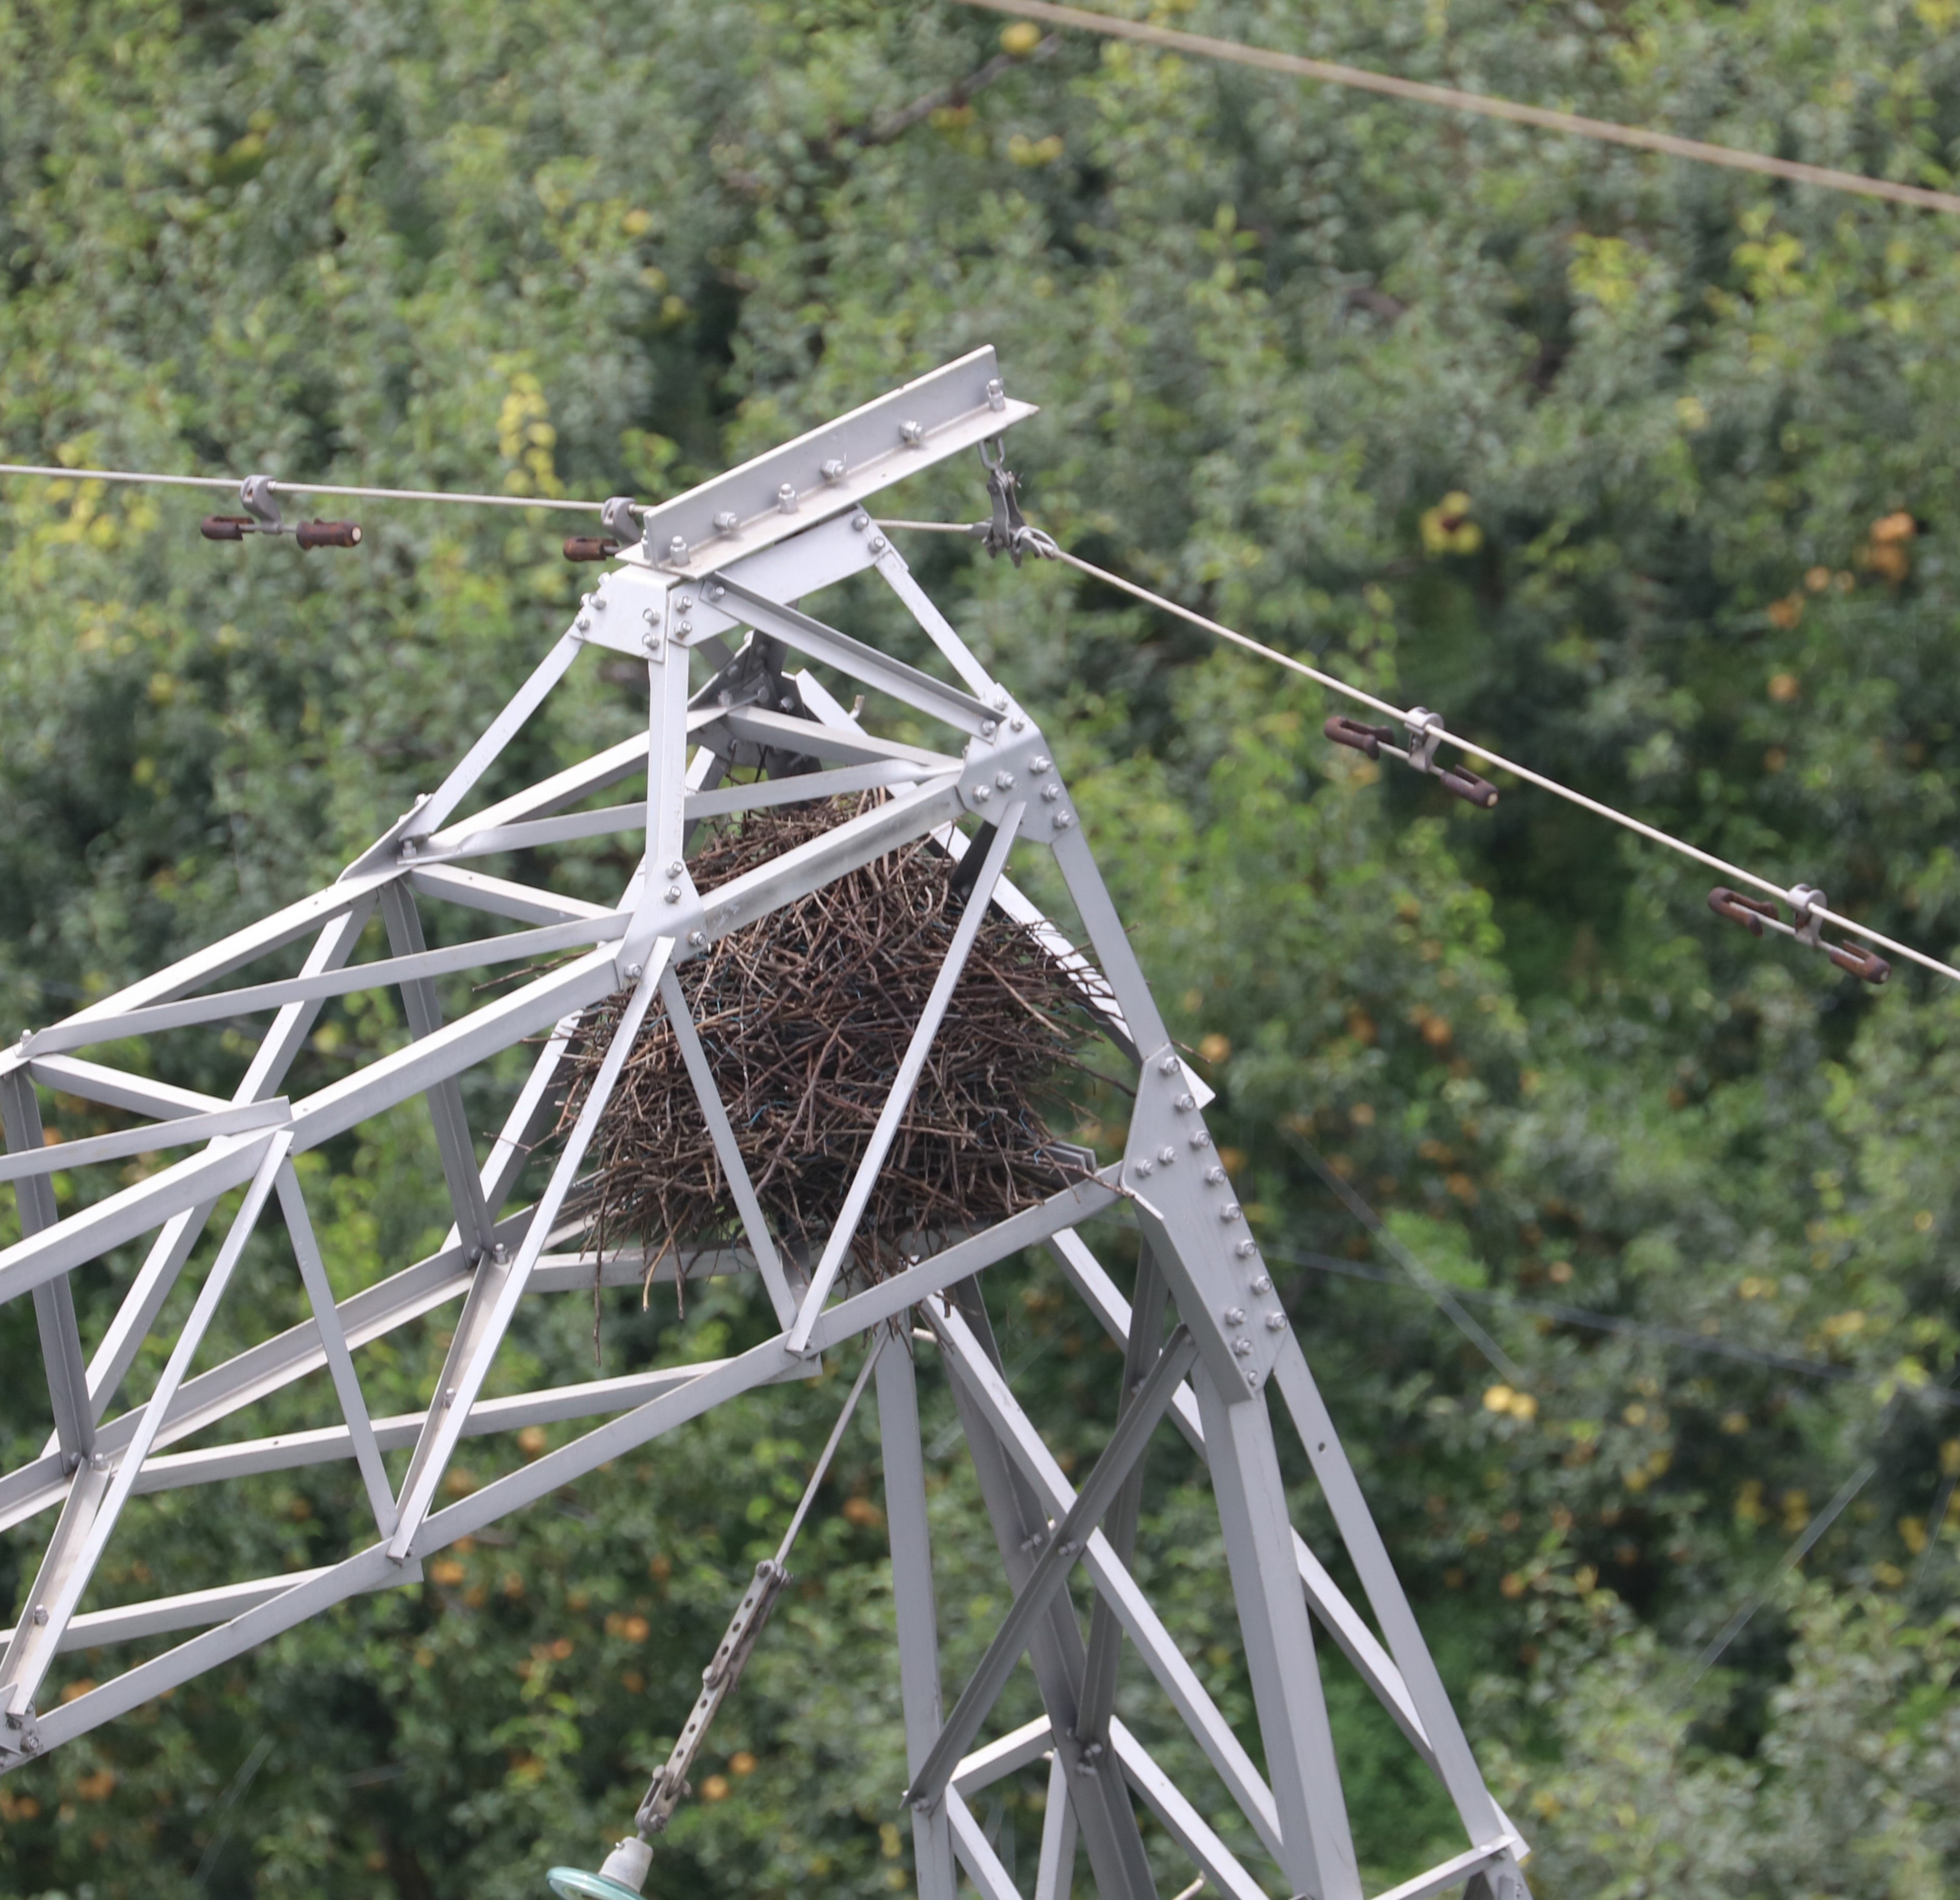niaowo: (546, 787, 1130, 1303)
